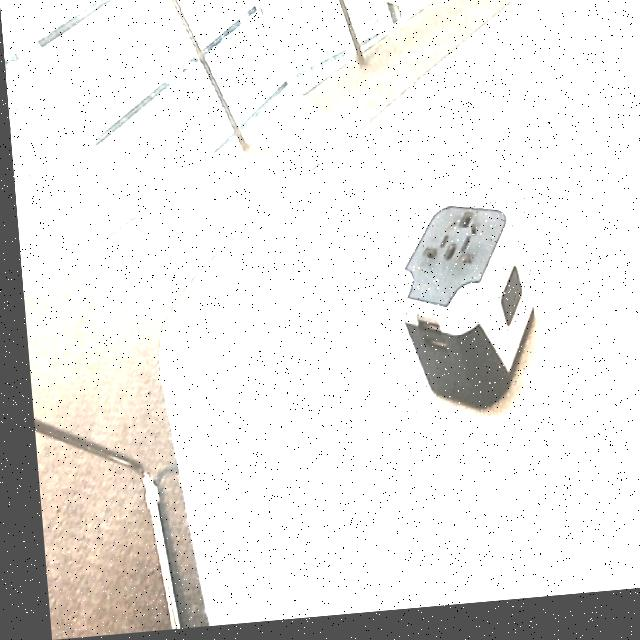adapter: (381, 203, 534, 421)
